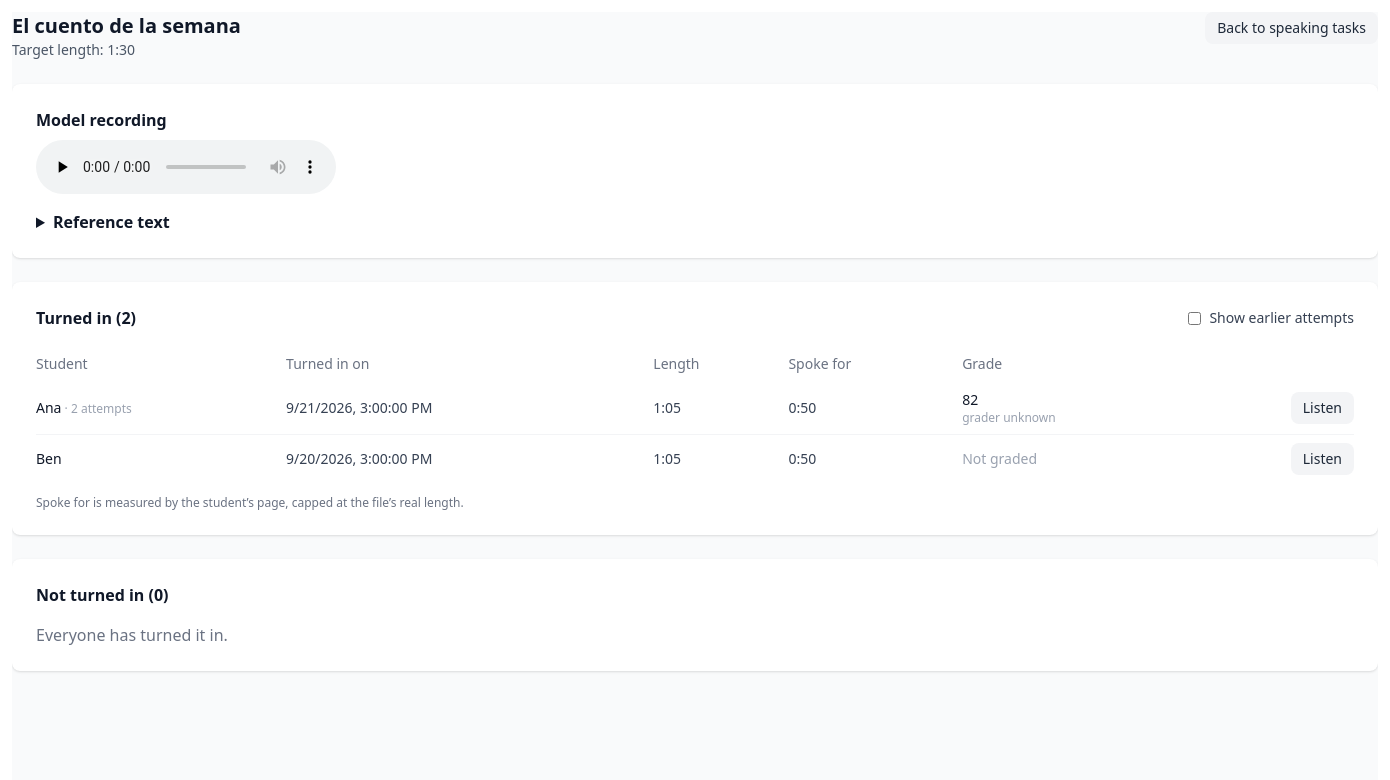
Test: SpeakingReview › never says "by you" for a grade with no grader named, nor that the student sees it
This screenshot has width=1390, height=780.
Expected: the text "grader unknown" is shown, x1=962 y1=409 x2=1056 y2=426
Click the button "Listen" in the row of "2 attempts" at [1322, 408], box x1=1291 y1=392 x2=1354 y2=424
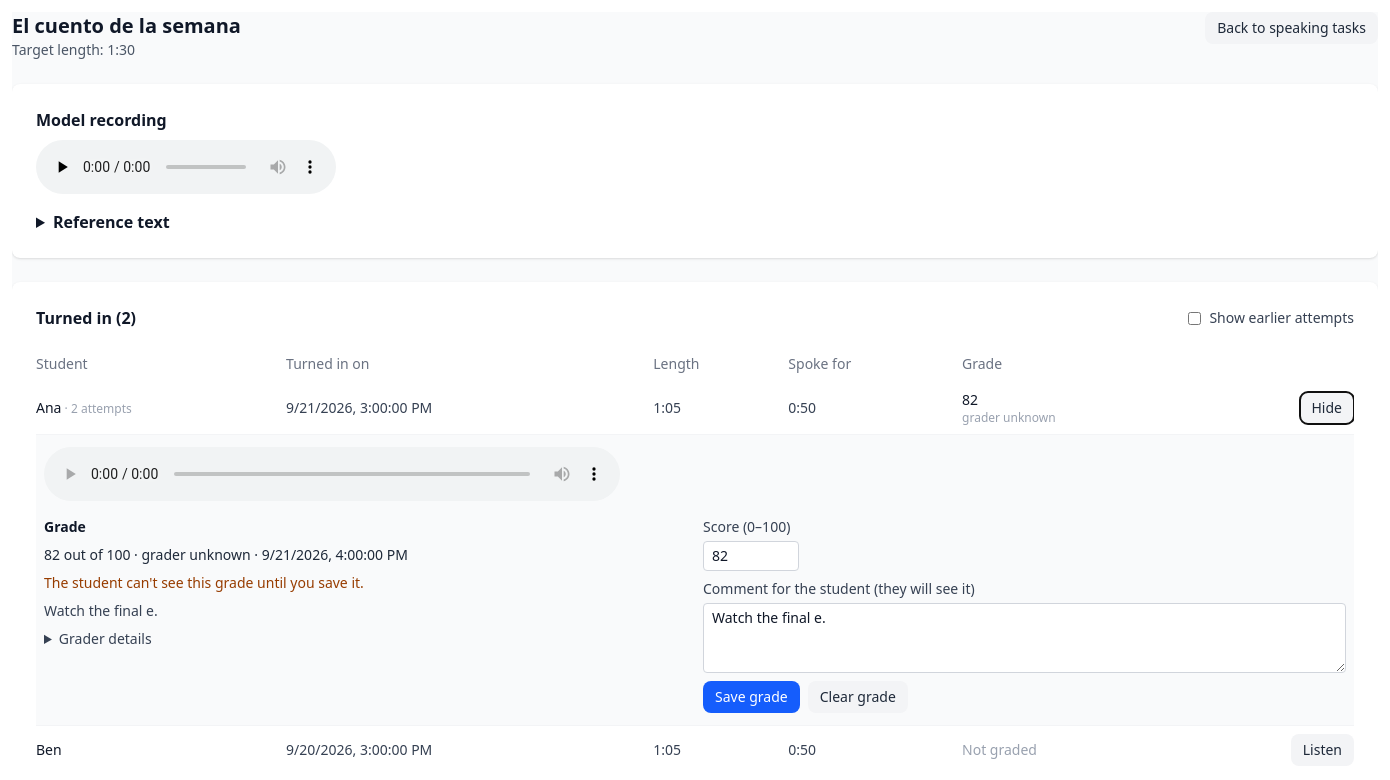
Expected: the text "82 out of 100 · grader unknown · 9/21/2026, 4:00:00 PM" is shown, x1=44 y1=545 x2=408 y2=564
Expected: the text "The student can't see this grade until you save it." is shown, x1=44 y1=573 x2=364 y2=592
